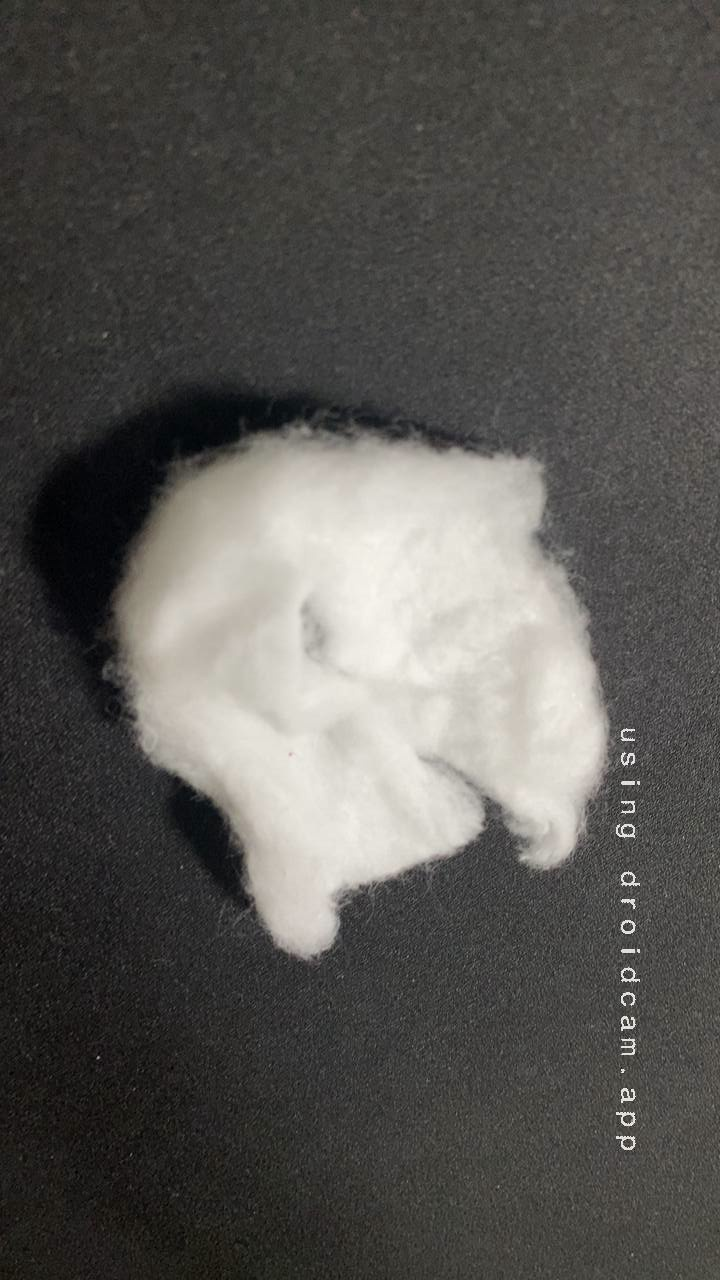cotton: (72, 402, 678, 989)
